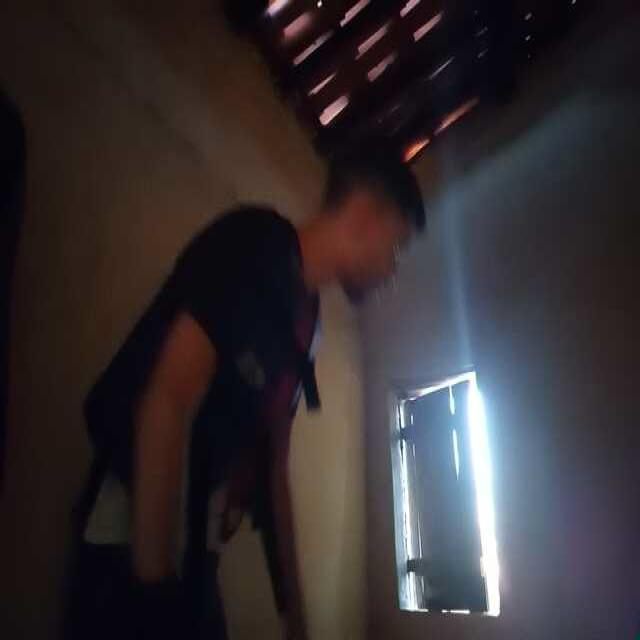colete: (205, 250, 326, 536)
pessoa: (78, 156, 426, 633)
